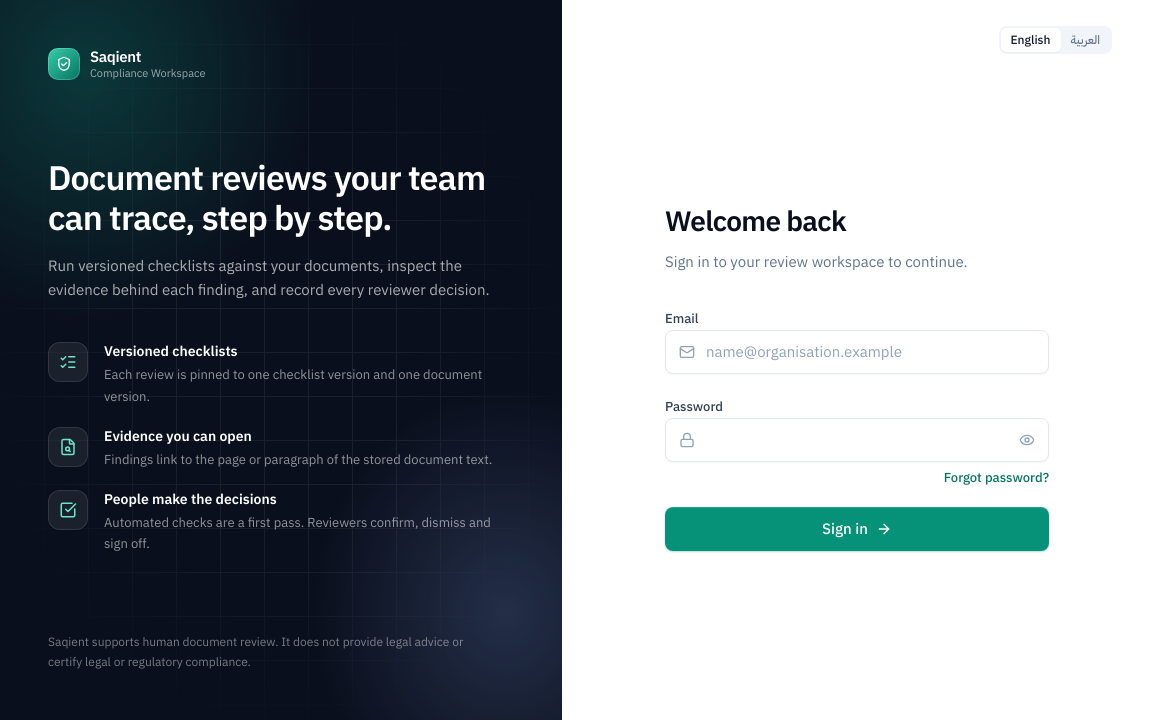
Test case: LoginPage › shows the server error without echoing the password
Type "analyst@alpha.example" into the field labelled "Email" at {"x": 857, "y": 352}, box [665,330,1049,374]
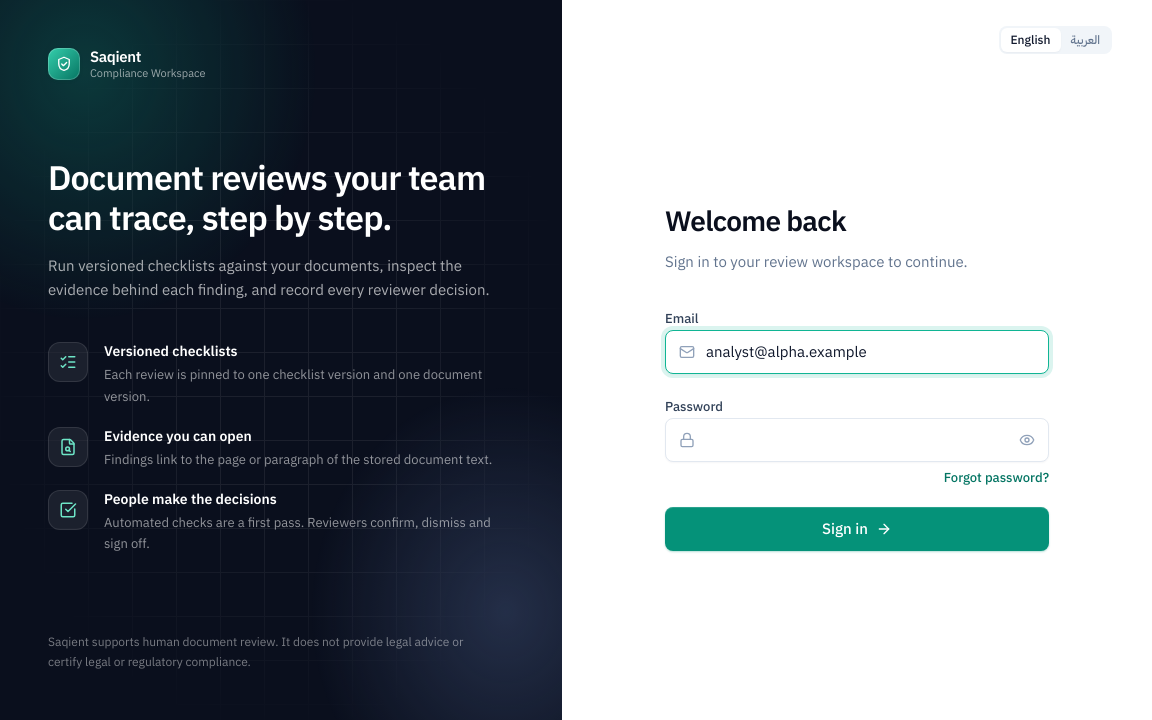
Type "wrong-password" into the password field labelled "Password" at {"x": 857, "y": 440}, box [665,418,1049,462]
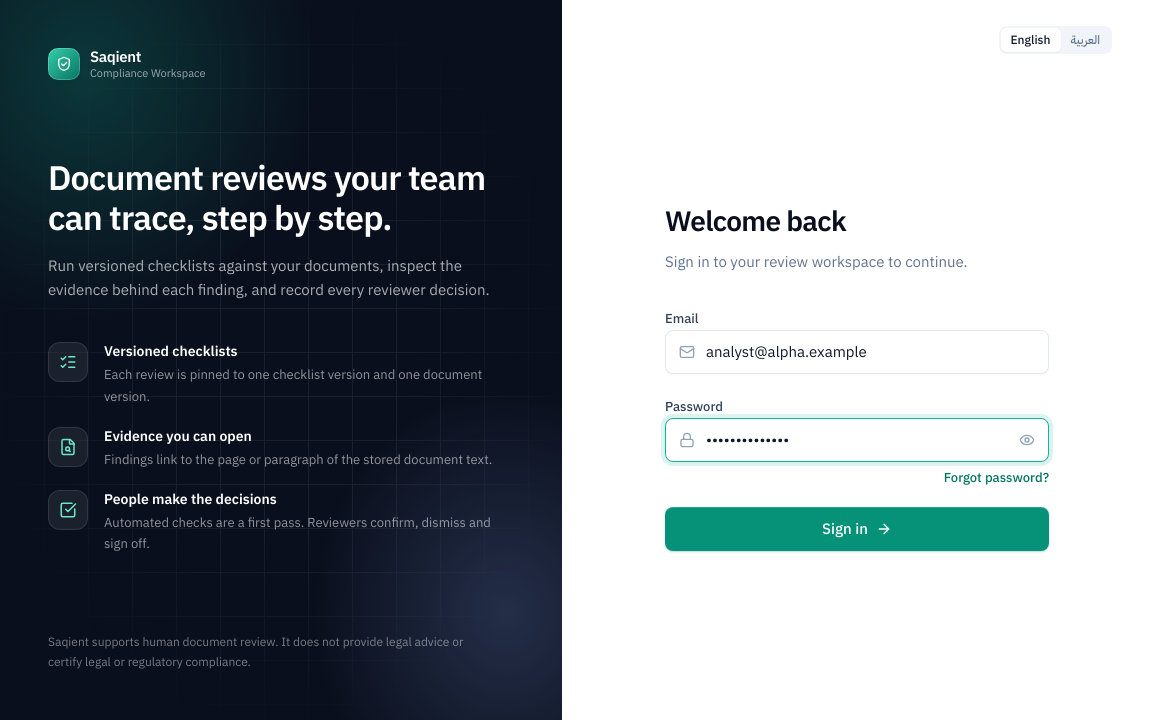
Click the button "Sign in" at {"x": 857, "y": 529}, box [665,507,1049,551]
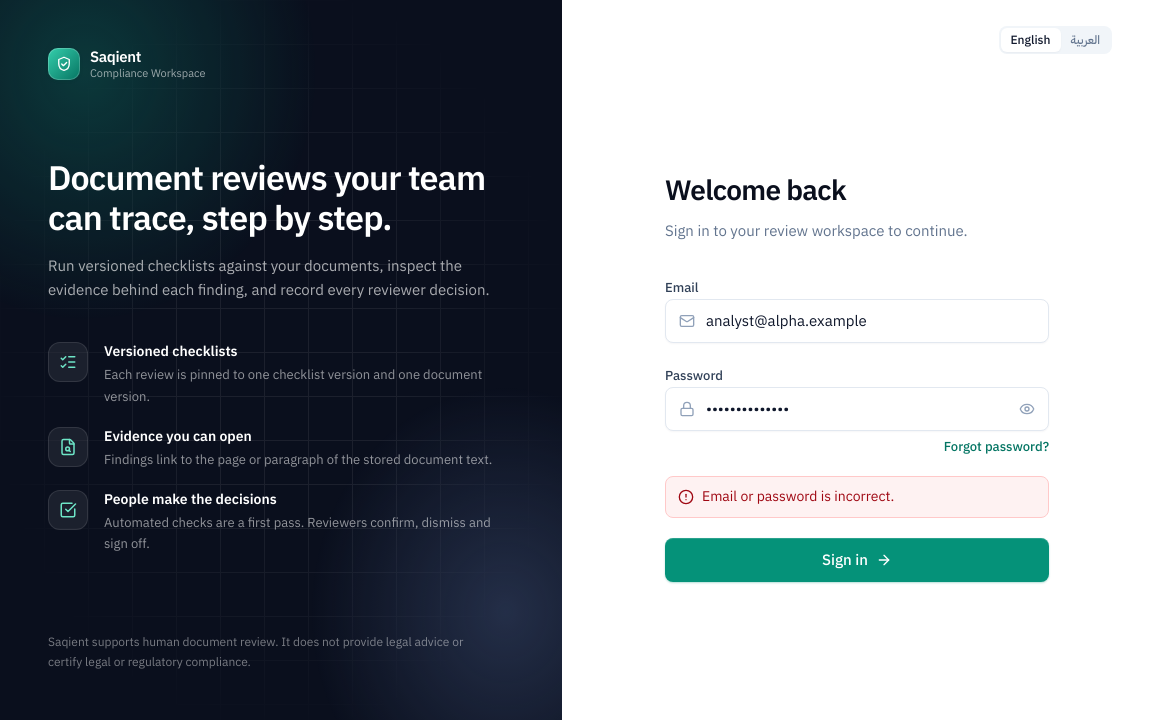
Expected: the message does not show "wrong-password", [665,476,1049,518]
Expected: the message reads "Email or password is incorrect.", [702,486,894,507]
